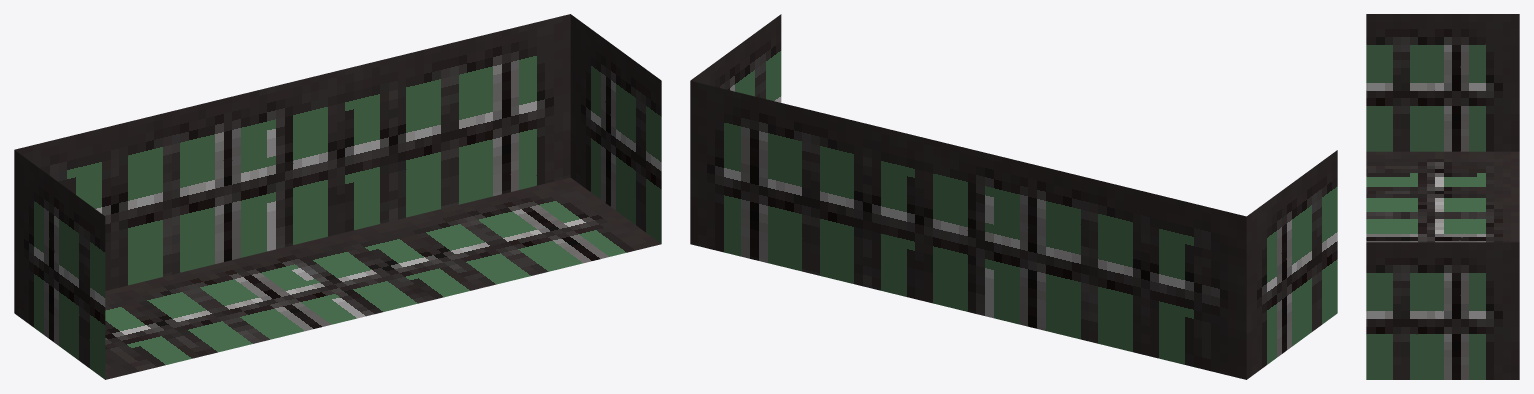
Rendered from balcony_typeA.fbx.
3 views of the same model, side by side, from view 1: azimuth 30°, elevation 25°; view 2: azimuth 150°, elevation 25°; view 3: azimuth 270°, elevation 25° (orthographic). The views are drawn at different scales.
Visible parts, largest first — view 1: balcony_typeA; view 2: balcony_typeA; view 3: balcony_typeA.
Part boxes in pixels (left/top/right/bottom): balcony_typeA: left=14, top=14, right=661, bottom=379; balcony_typeA: left=690, top=14, right=1337, bottom=379; balcony_typeA: left=1366, top=14, right=1519, bottom=379.
Size of the model in its own units: 10 by 2.81 by 2.84.
